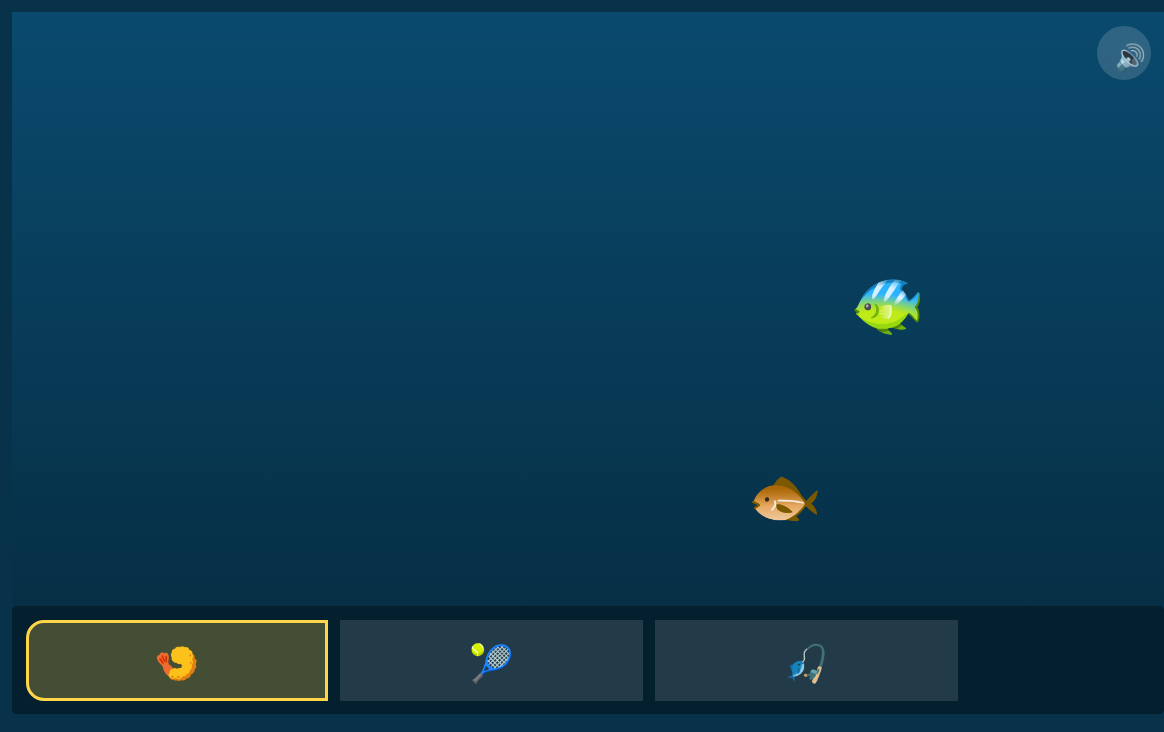
Test: Aquarium page › tapping a creature also drops at that point (no per-creature action left)
This screenshot has width=1164, height=732.
Click the text with test id "creature" showing "🐟": (785, 495) [747,459,822,531]
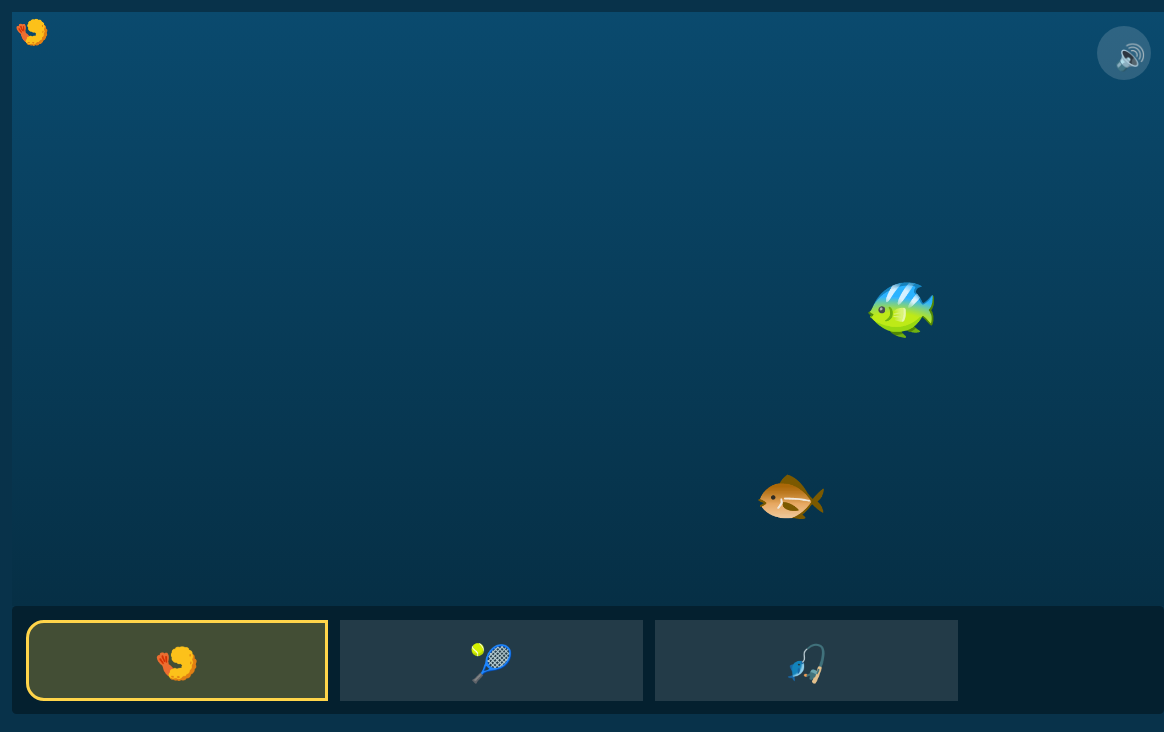
Expected: the text with test id "foodDrop" is shown, [14,12,49,54]
